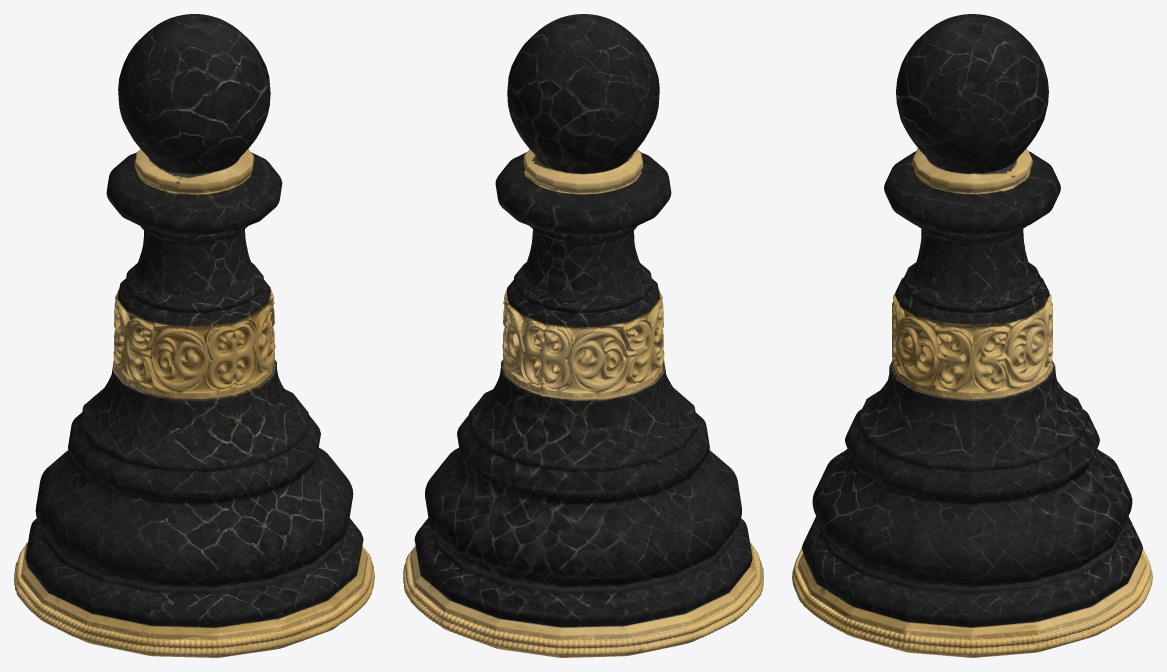
Rendered from baroque_pawn_black_opt.glb.
The picture shows the model from 3 angles, left to right: view 1: azimuth 30°, elevation 25°; view 2: azimuth 150°, elevation 25°; view 3: azimuth 270°, elevation 25°; orthographic projection.
Size of the model in its own units: 1.1 by 1.9 by 1.1.
1 material, 1 textured.
